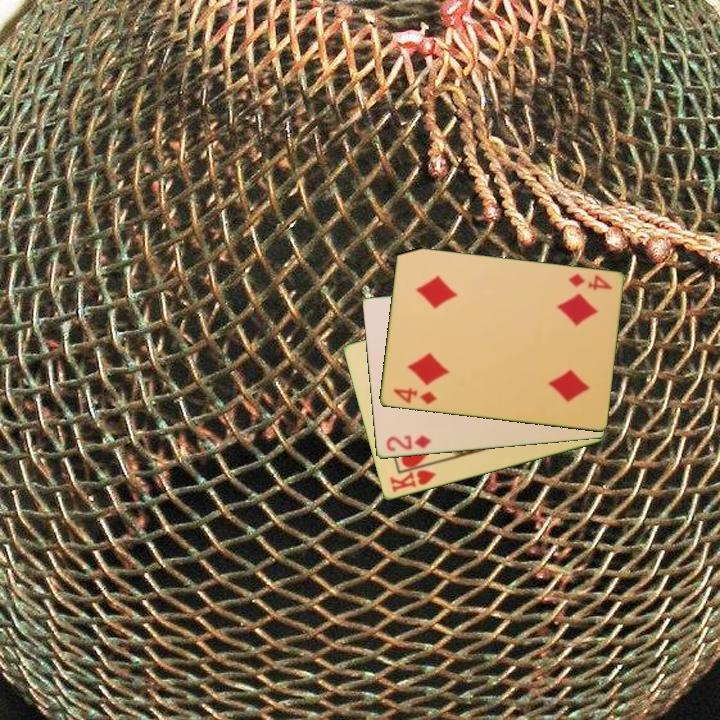2d: (382, 432, 434, 454)
4d: (564, 270, 615, 294), (390, 385, 439, 407)
Kh: (386, 460, 439, 495)
